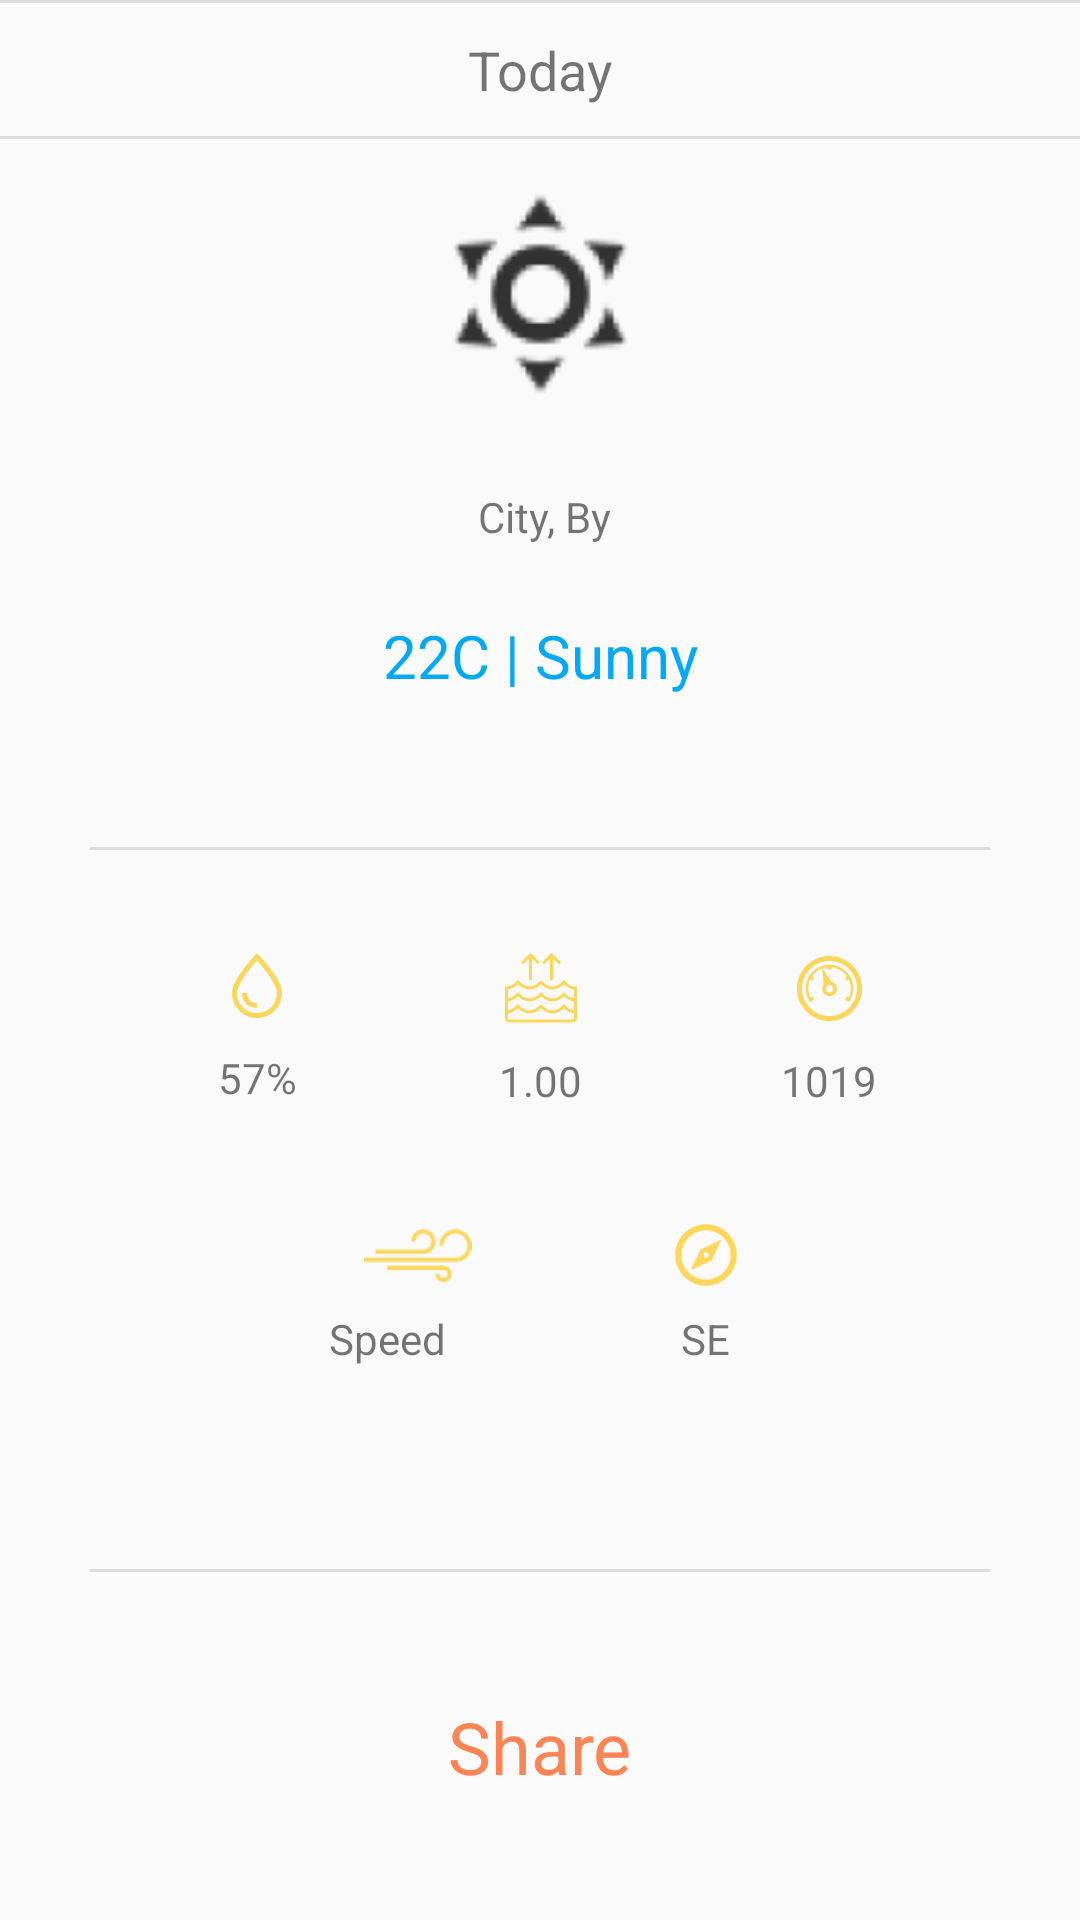

Where to tap for icons on this 1080x1920 app screen, as (x,y):
compass: (706,1255)
pressure: (829,988)
sea lvl: (541,988)
water: (257,985)
windr: (418,1256)
